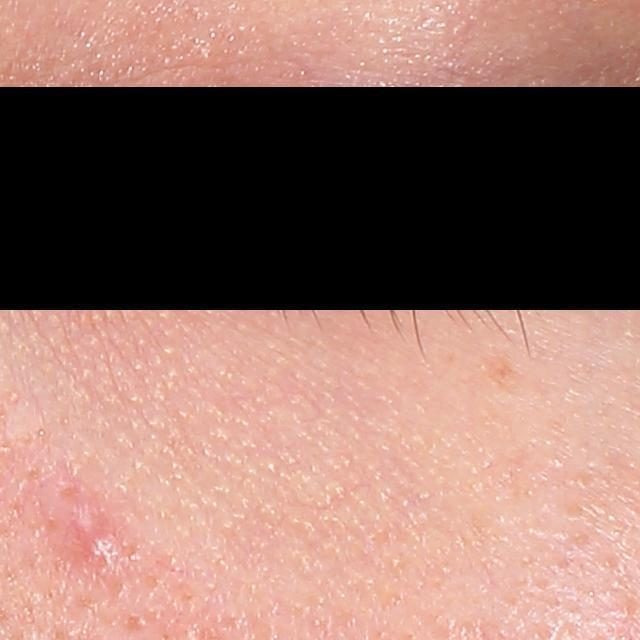melasma: (466, 351, 526, 393)
papule: (80, 527, 119, 563)
